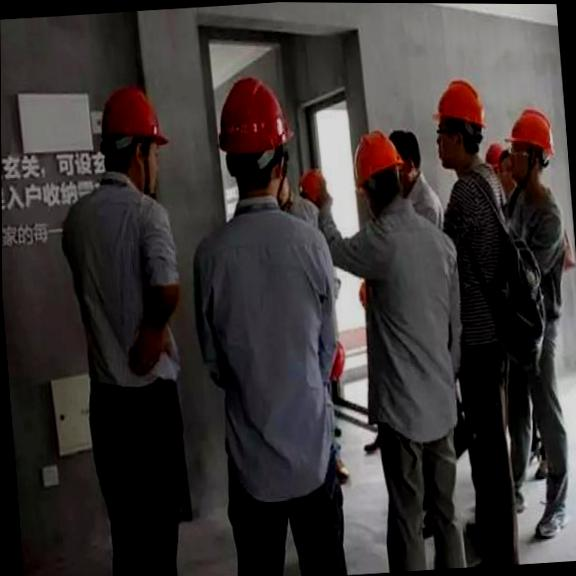no_safety_vest: (196, 198, 353, 509), (346, 206, 468, 452), (62, 175, 189, 408), (450, 176, 513, 359), (512, 192, 574, 348)
